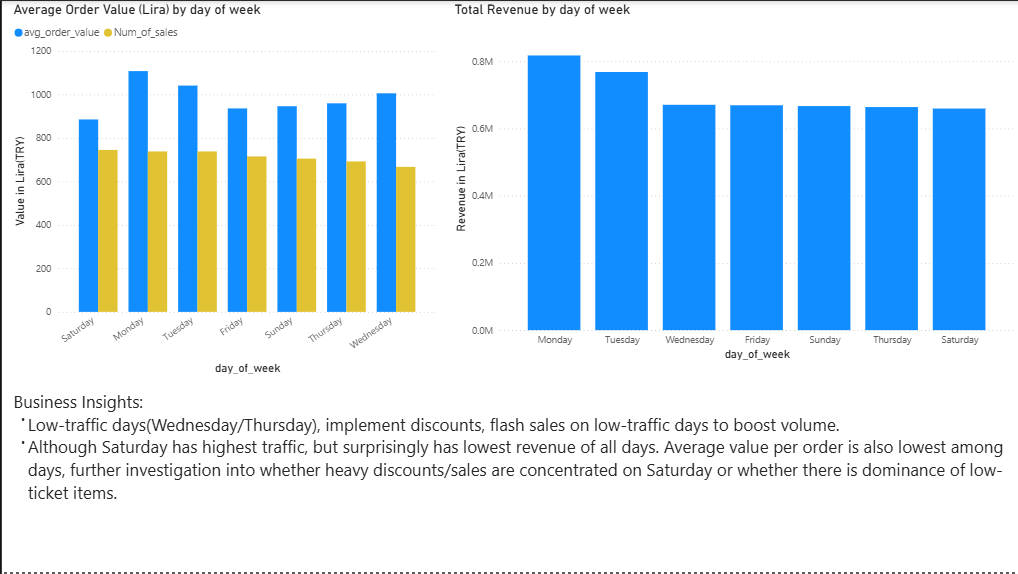

The page's visual inventory and layout, read from the dashboard file:
{"tool":"powerbi","page":{"name":"Seasonality","canvas":[1280,720],"ordinal":2},"visuals":[{"type":"clusteredColumnChart","title":"Average Order Value (Lira) by day of week","fields":{"Category":["Day of week Patterns.day_of_week"],"Y":["Sum(Day of week Patterns.avg_order_value)","Sum(Day of week Patterns.no_of_sales)"]},"box":[9.4,0,542.4,474.3],"z":0},{"type":"columnChart","title":"Total Revenue by day of week","fields":{"Category":["Day of week Patterns.day_of_week"],"Y":["Sum(Day of week Patterns.Total_Revenue)"]},"box":[565,0,714.3,457.3],"z":1},{"type":"textbox","box":[9.8,484.7,1268.7,235.8],"z":2}]}

Visuals, with their boxes in screenshot pixels (x1, y1, x2, y2), scaled from the page's 1280x720 canvas onto the 1018x574 screenshot:
"Average Order Value (Lira) by day of week" clusteredColumnChart: rect(7, 0, 439, 378)
"Total Revenue by day of week" columnChart: rect(449, 0, 1017, 365)
textbox: rect(8, 386, 1017, 573)
